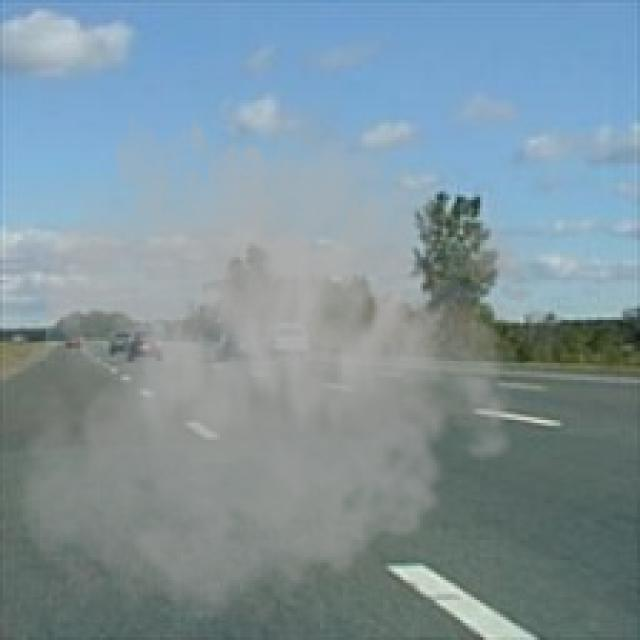Smoke: (6, 74, 552, 637)
